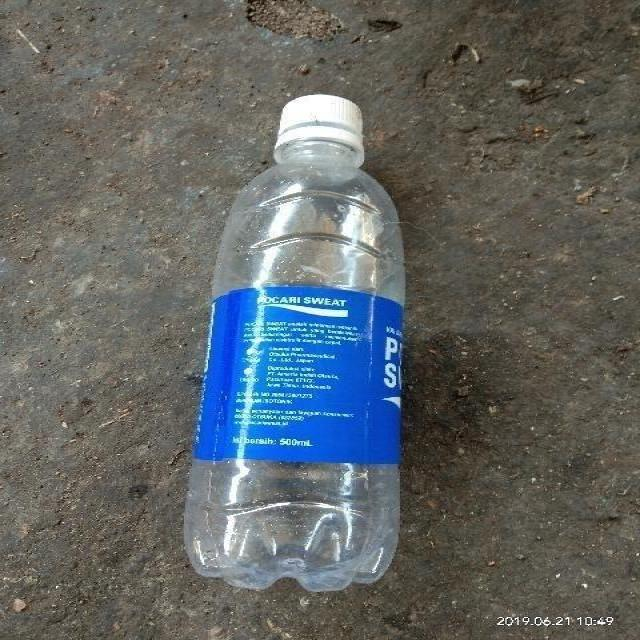bottle-plastic: (176, 88, 419, 599)
